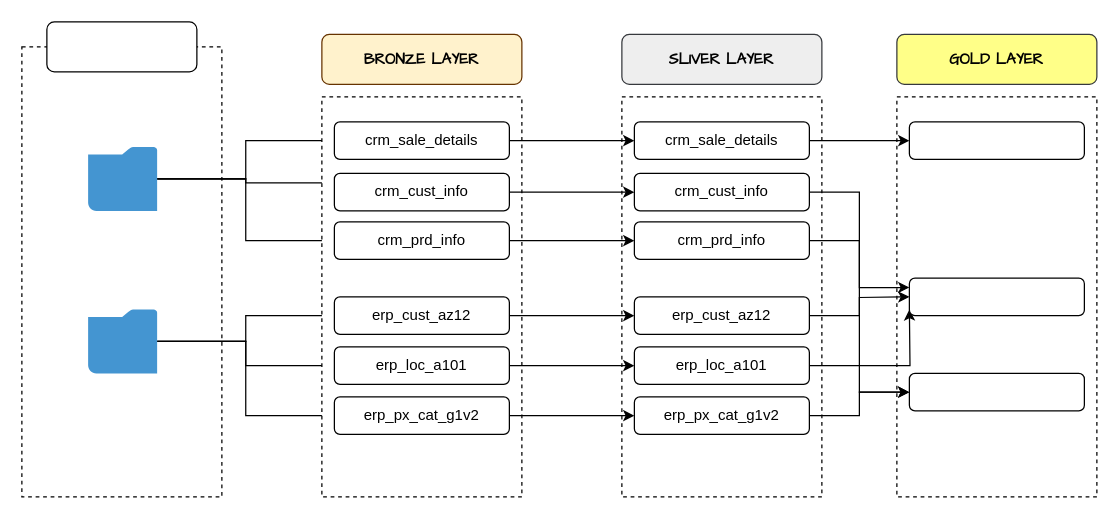
This 1119x519 diagram has some shape labels left out. Each missing label, with the centre of its shape:
"CRM" goes at point 122,178.
"dim_customers" goes at point 996,296.
"dim_products" goes at point 996,391.
"ERP" goes at point 122,341.
"fact_sales" goes at point 996,140.
"Sources" goes at point 121,46.
